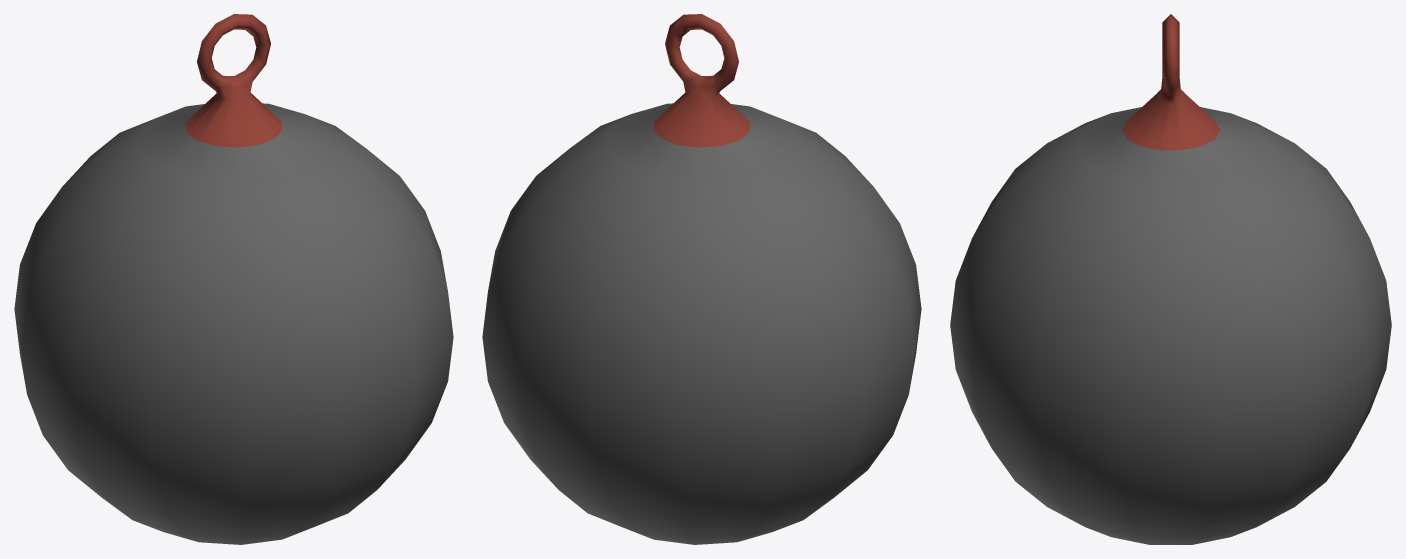
The model's file is Wreckingball.fbx.
3 views of the same model, side by side, from view 1: azimuth 30°, elevation 25°; view 2: azimuth 150°, elevation 25°; view 3: azimuth 270°, elevation 25° (orthographic).
Visible parts, largest first — view 1: Torus; view 2: Torus; view 3: Torus.
Part boxes in pixels (x1,y1,x2,y2): Torus: (14,14,453,544); Torus: (482,14,921,544); Torus: (950,14,1391,544).
Size of the model in its own units: 195 by 254 by 200.
1 material, 1 textured.
